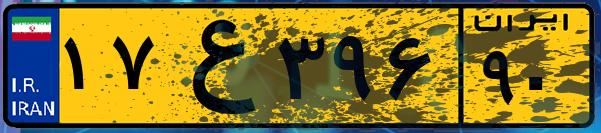0: (525, 38, 570, 115)
1: (57, 26, 110, 100)
3: (270, 28, 330, 110)
6: (385, 28, 445, 110)
7: (110, 28, 158, 98)
9: (330, 28, 385, 110), (475, 38, 525, 113)
ع: (158, 12, 270, 120)
